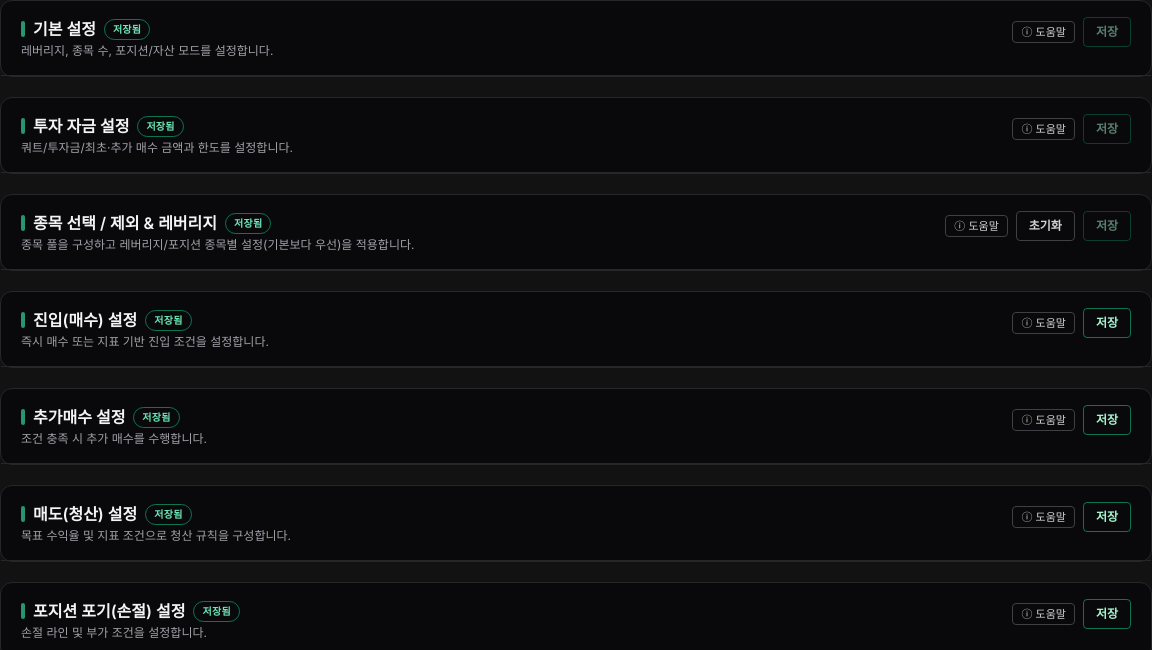
AutoTradingSettingsForm – short entry indicators › opens the short entry indicator editor when requested
This screenshot has width=1152, height=650.
Click the button "진입(매수) 설정 저장됨 즉시 매수 또는 지표 기반 진입 조건을 설정합니다." at (145, 329), box [21, 308, 269, 350]
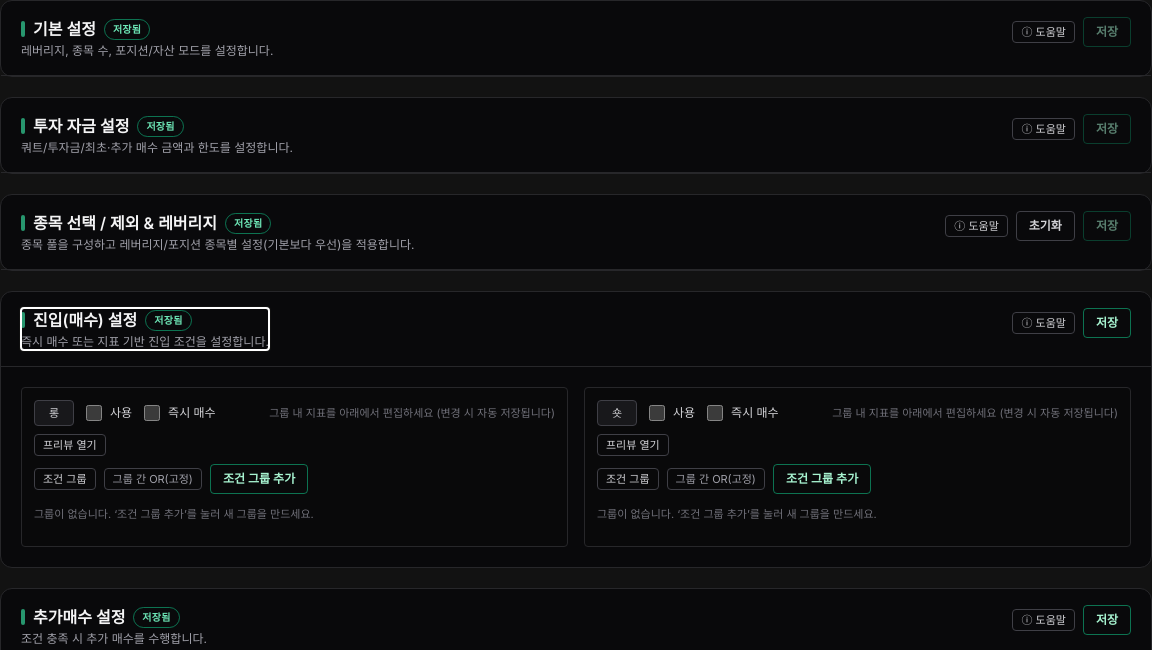
Note: 숏 패널에서 ‘조건 그룹 추가’ 클릭 (두 패널 중 두 번째 버튼 선택)
Click the 2nd button "조건 그룹 추가" at (822, 479), box [773, 464, 871, 494]
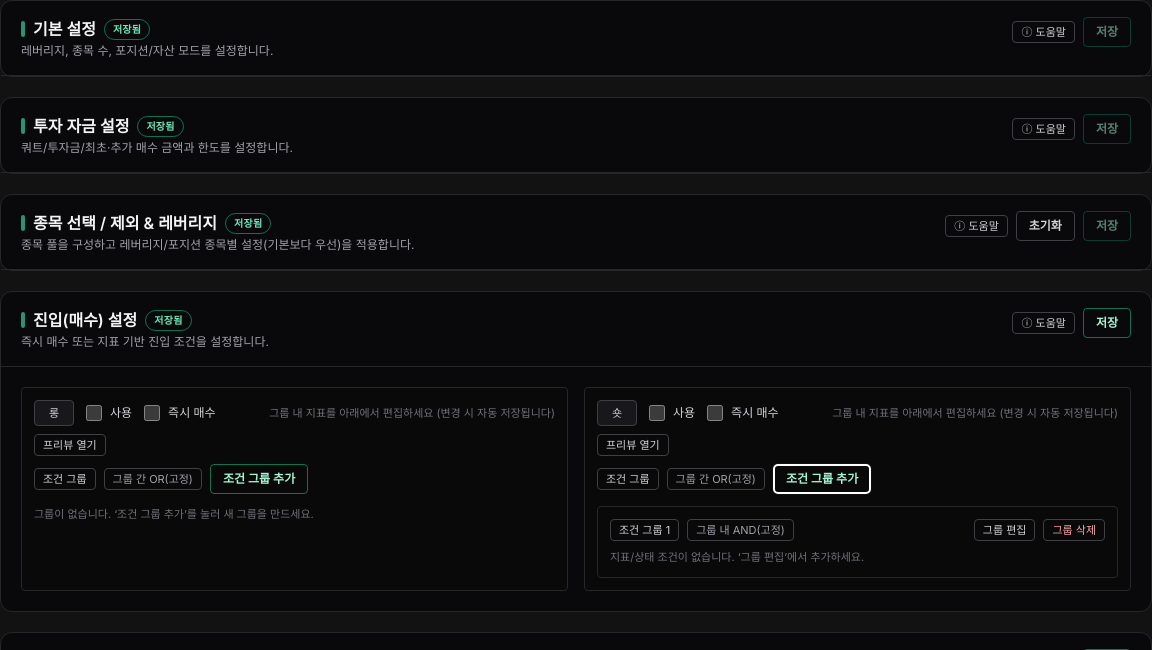
Click the button "그룹 편집" at (1005, 530), box [974, 519, 1035, 541]
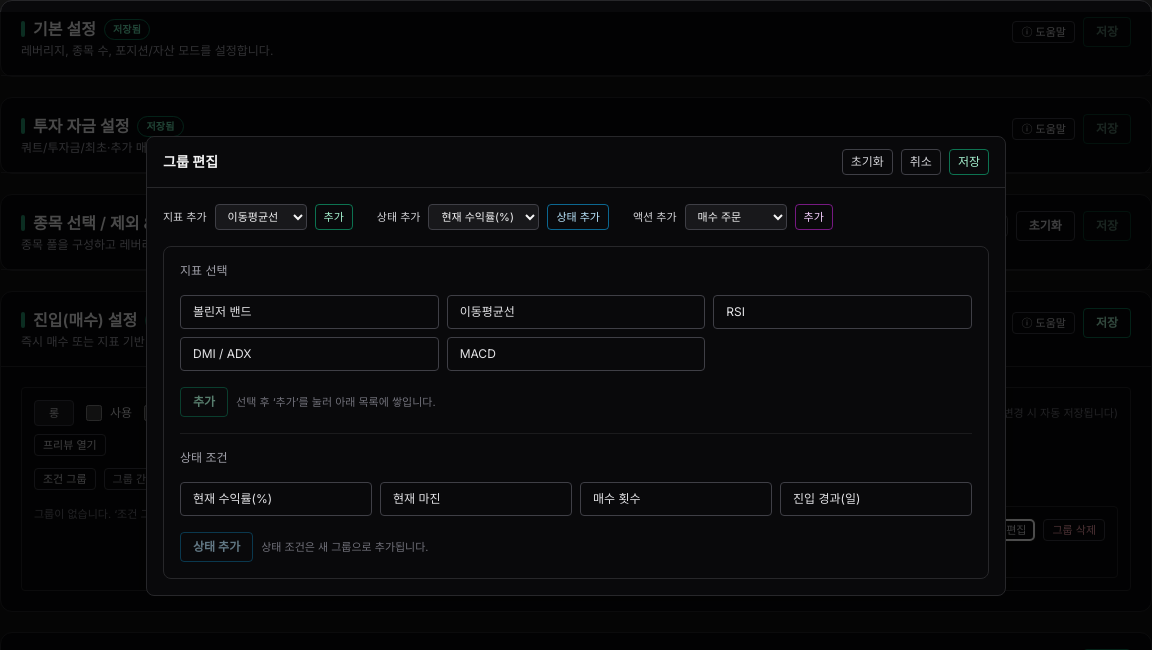
Note: 모달에서 지표 추가: 볼린저 밴드 선택 후 추가 → 저장
Select "볼린저 밴드" in the 1st dropdown at (261, 217), box [215, 204, 307, 230]
Click the 1st button "추가" at (334, 217), box [315, 204, 353, 230]
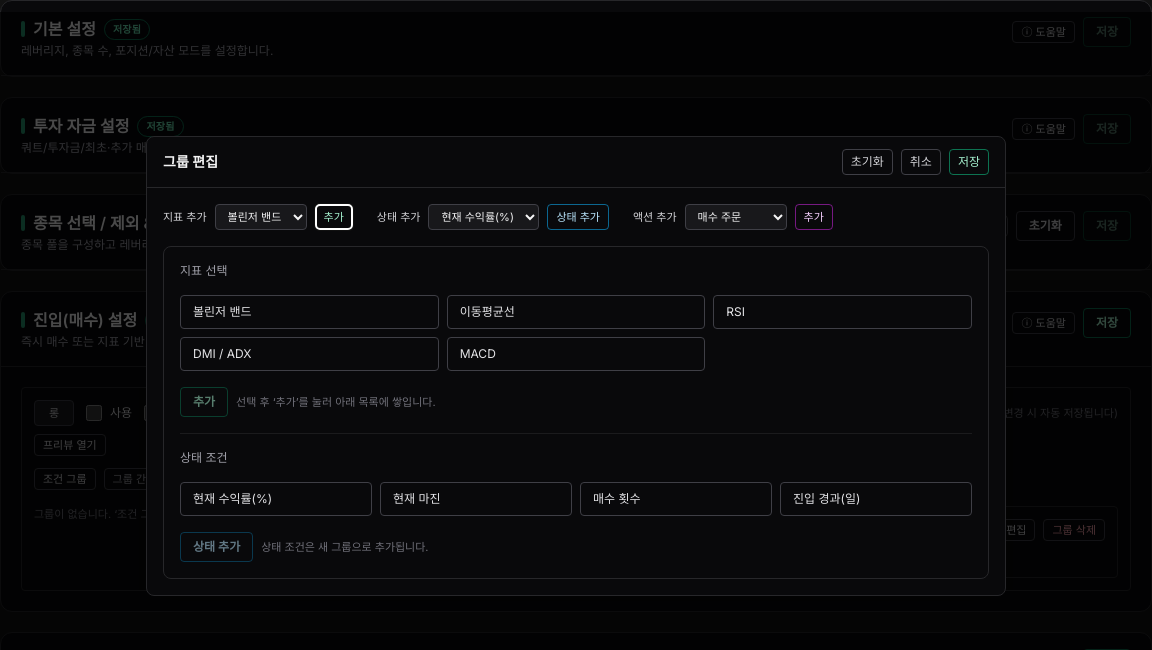
Click the button "저장" at (969, 162), box [949, 149, 989, 175]
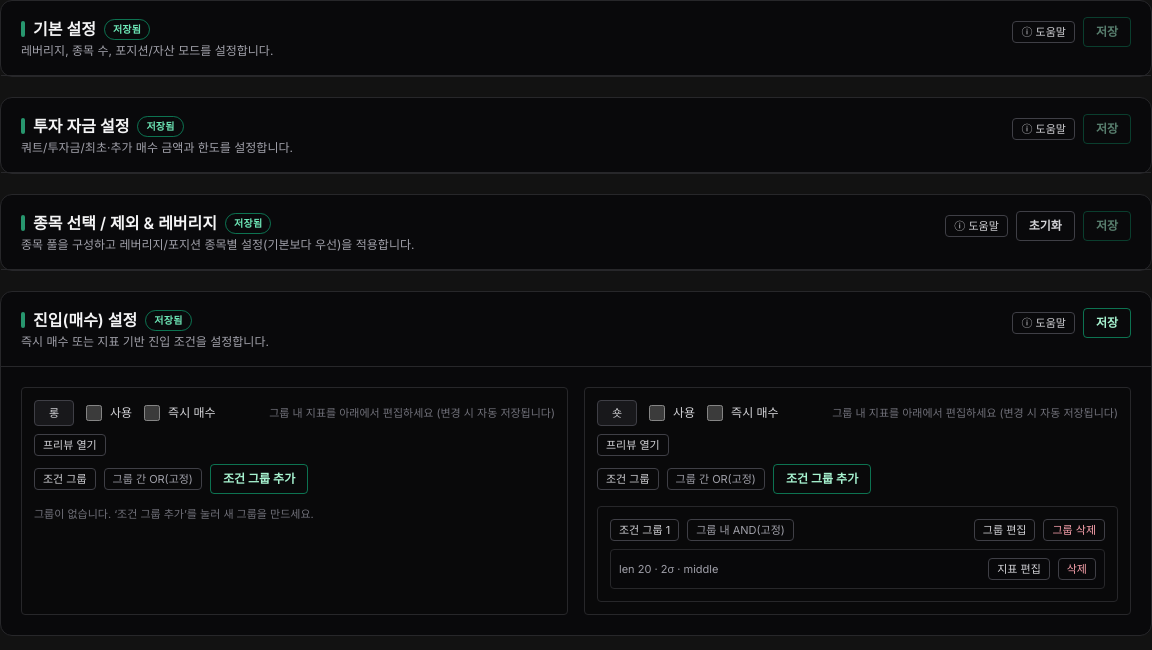
Note: 숏 패널에서 ‘지표 편집’ 버튼 클릭하여 편집 모달이 뜨는지 확인
Click the button "지표 편집" at (1019, 569), box [988, 558, 1050, 580]
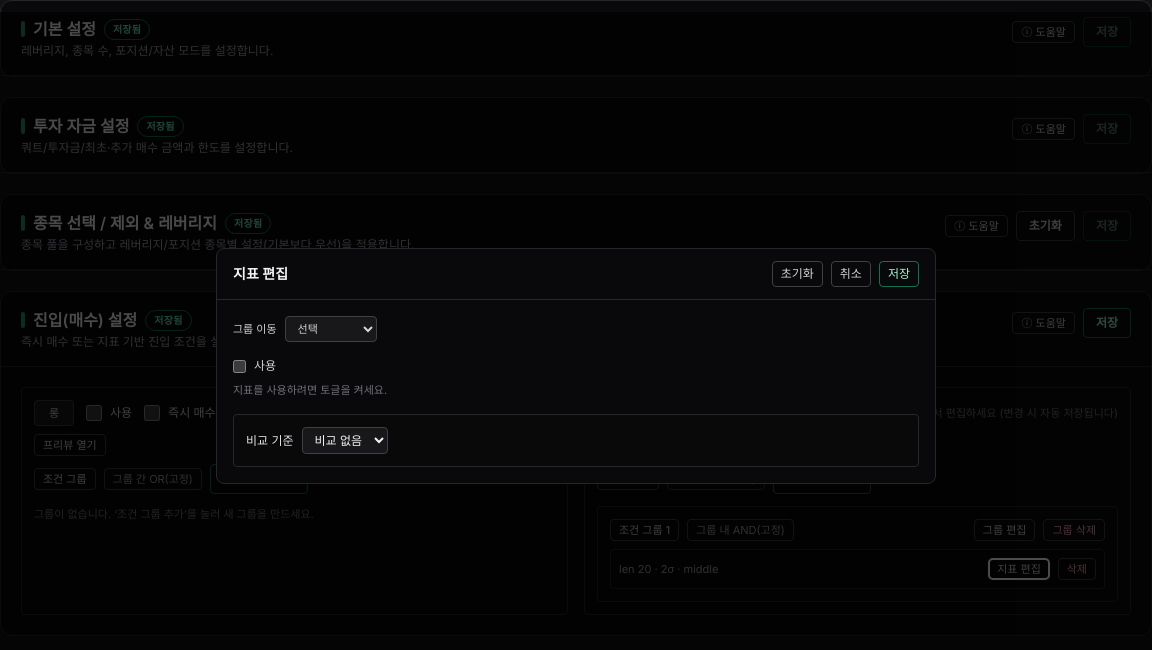
Expected: the heading "지표 편집" is shown, [233, 264, 288, 284]
